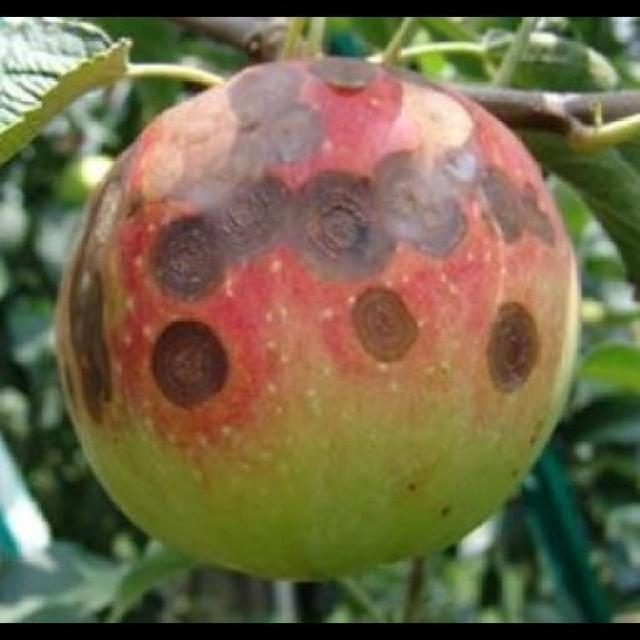Rotten Apple: (49, 53, 583, 584)
